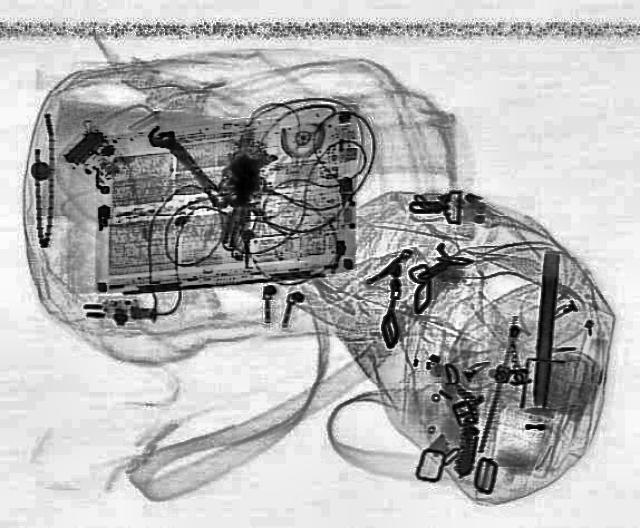Wrench: (138, 120, 235, 214)
